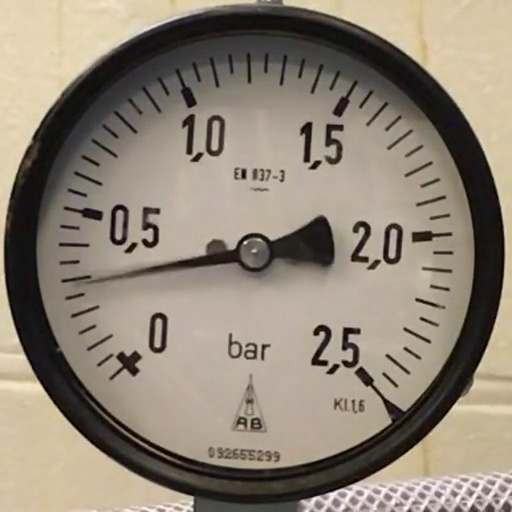base: (236, 233, 273, 272)
circle_plate: (38, 36, 470, 465)
maximum: (353, 365, 374, 387)
minimum: (115, 348, 141, 376)
number: (350, 220, 403, 270), (310, 324, 361, 375), (107, 204, 161, 252), (180, 112, 225, 163), (300, 121, 345, 169), (146, 311, 168, 356)
tip: (81, 277, 92, 287)
